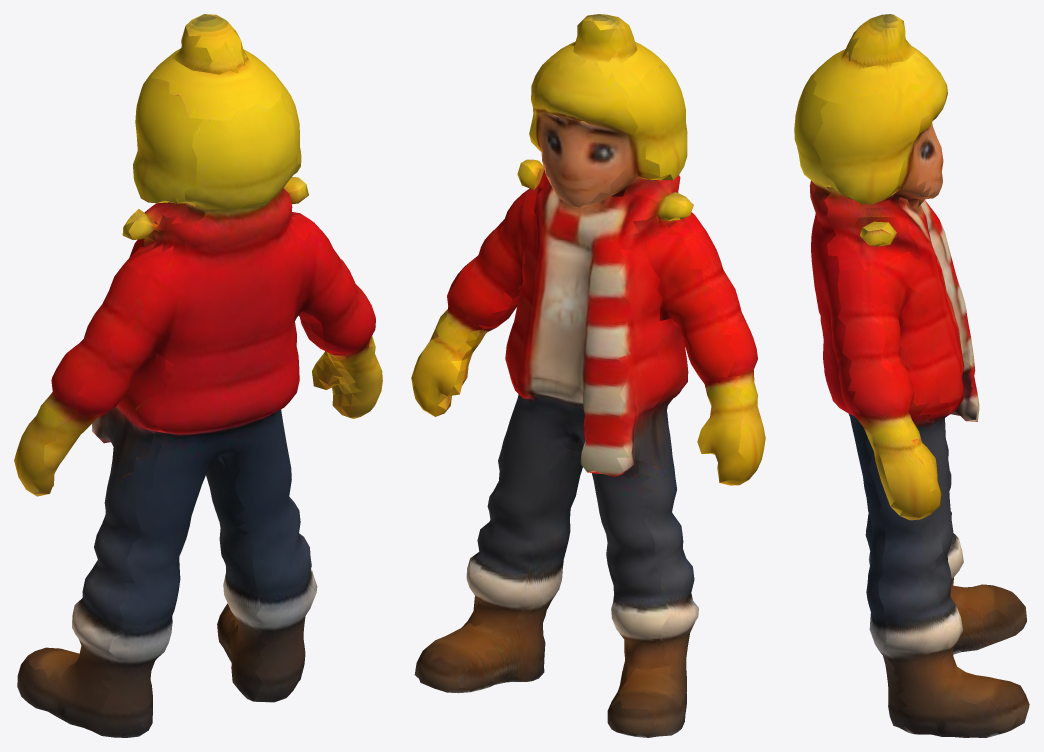
Rendered from snow-day-muscle-toon-raw.glb.
3 views of the same model, side by side, from view 1: azimuth 30°, elevation 25°; view 2: azimuth 150°, elevation 25°; view 3: azimuth 270°, elevation 25° (orthographic). The views are drawn at different scales.
Parts seen in each view (by area): view 1: world; view 2: world; view 3: world.
Part boxes in pixels (x1,y1,x2,y2): world: (14, 14, 382, 737); world: (411, 14, 765, 737); world: (794, 14, 1029, 737).
Size of the model in its own units: 0.5064 by 0.9536 by 0.3015.
1 material, 1 textured.
